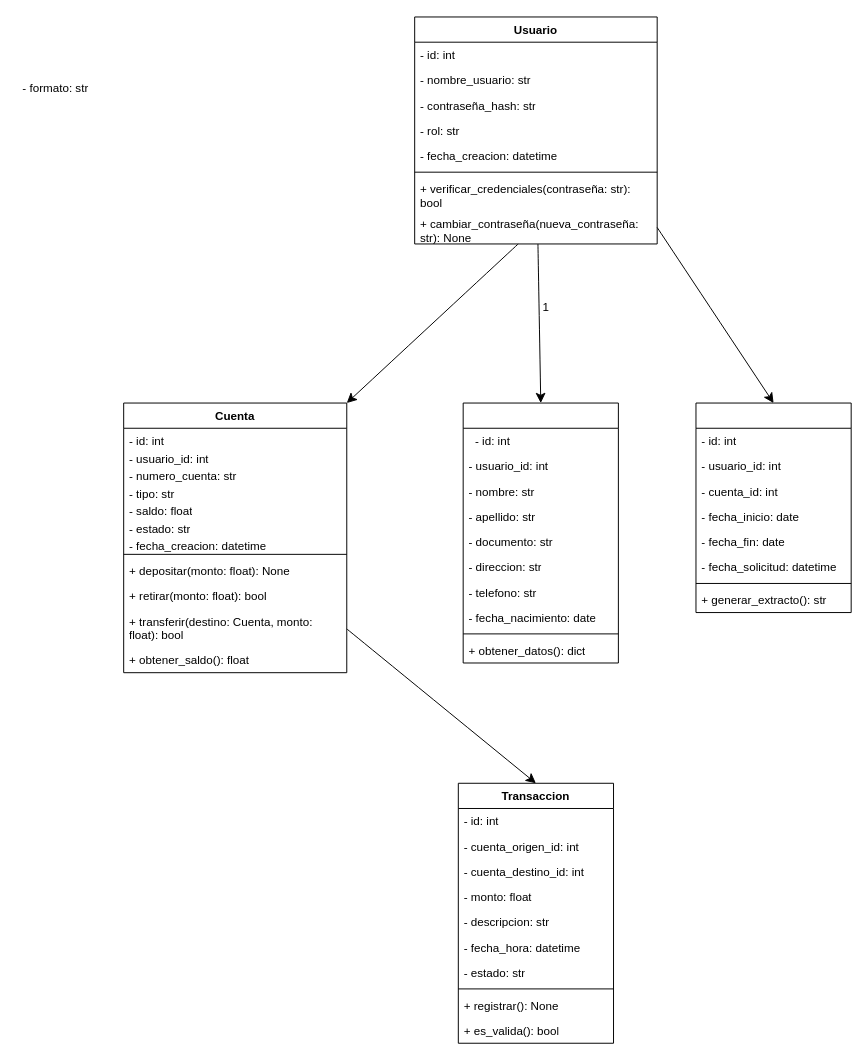
Some shapes in this 868 by 1063 pixel diagram are drawn without their labels. The shapes that lost their labels are listed below. From the top down, each one's box as (x1, y1, x2, y2) in pixels, then its label:
(695, 402, 851, 613): Solicitud_Extracto
(462, 402, 618, 663): Cliente
